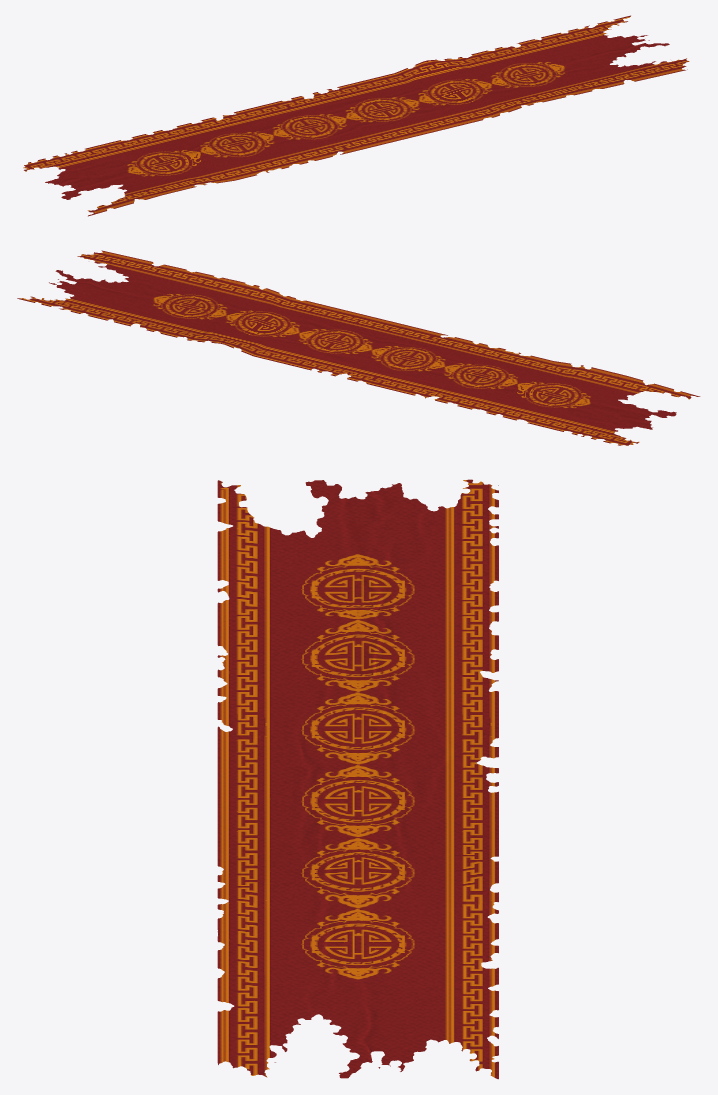
The model's file is SM_Cutout_Carpet_Purple.fbx.
3 renders of one model, top to bottom at view 1: azimuth 30°, elevation 25°; view 2: azimuth 150°, elevation 25°; view 3: azimuth 270°, elevation 25°, orthographic. The views are drawn at different scales.
Parts seen in each view (by area): view 1: SM_Cutout_Carpet_Purple_LOD0; view 2: SM_Cutout_Carpet_Purple_LOD0; view 3: SM_Cutout_Carpet_Purple_LOD0.
Boxes of the visible parts, x1=… form: SM_Cutout_Carpet_Purple_LOD0: x1=23, y1=15, x2=689, y2=216; SM_Cutout_Carpet_Purple_LOD0: x1=17, y1=250, x2=700, y2=445; SM_Cutout_Carpet_Purple_LOD0: x1=217, y1=479, x2=498, y2=1079.
Size of the model in its own units: 1271 by 258 by 9.83.
1 material, 1 textured.
